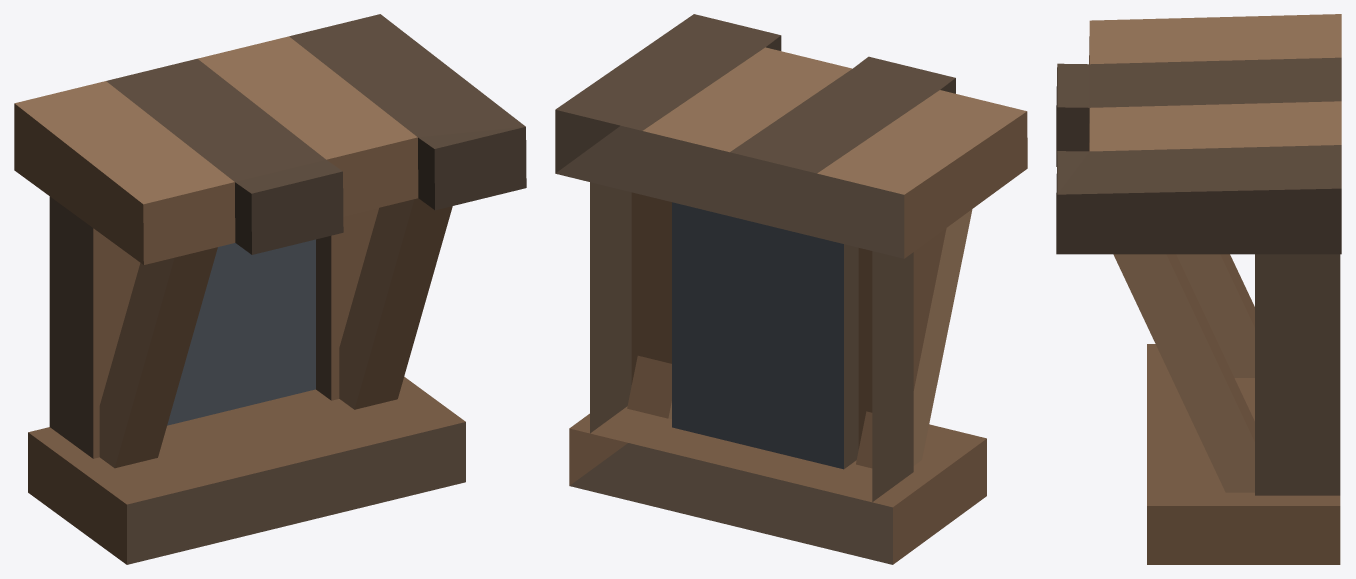
File: TB_D_Bd_Window_SRoof_A.FBX
The picture shows the model from 3 angles, left to right: view 1: azimuth 30°, elevation 25°; view 2: azimuth 150°, elevation 25°; view 3: azimuth 270°, elevation 25°; orthographic projection. The views are drawn at different scales.
Parts seen in each view (by area): view 1: TB_D_Bd_Window_SRoof_A; view 2: TB_D_Bd_Window_SRoof_A; view 3: TB_D_Bd_Window_SRoof_A.
Part boxes in pixels (x1=…): TB_D_Bd_Window_SRoof_A: x1=14, y1=14, x2=526, y2=564; TB_D_Bd_Window_SRoof_A: x1=555, y1=14, x2=1027, y2=564; TB_D_Bd_Window_SRoof_A: x1=1056, y1=14, x2=1341, y2=564.
Size of the model in its own units: 1.01 by 1.04 by 0.701.
